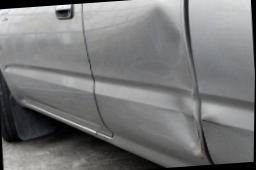Door: (89, 5, 203, 120)
